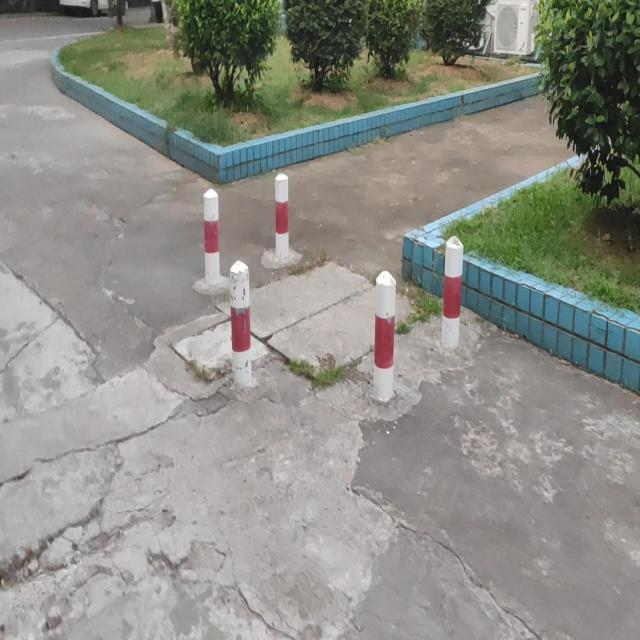warning_column: (226, 258, 254, 386), (371, 270, 398, 398), (440, 234, 464, 351), (201, 185, 220, 288), (271, 167, 292, 260)
